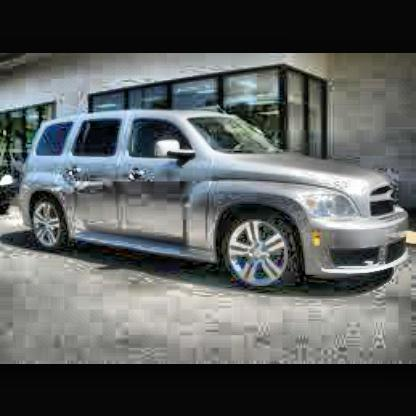Chevrolet HHR SS 2010: (16, 100, 416, 299)
